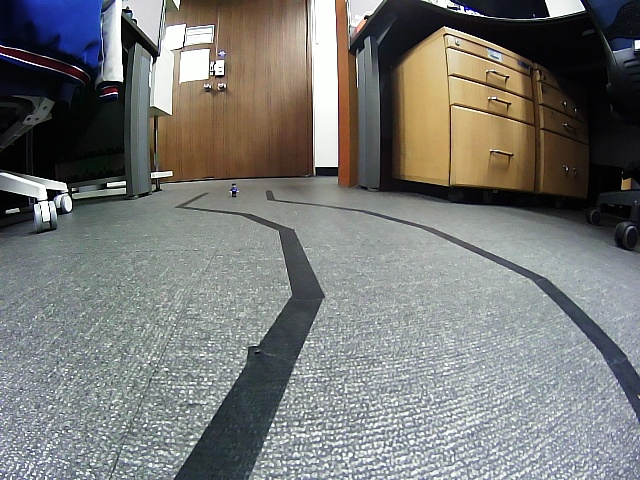person: (229, 183, 240, 197)
